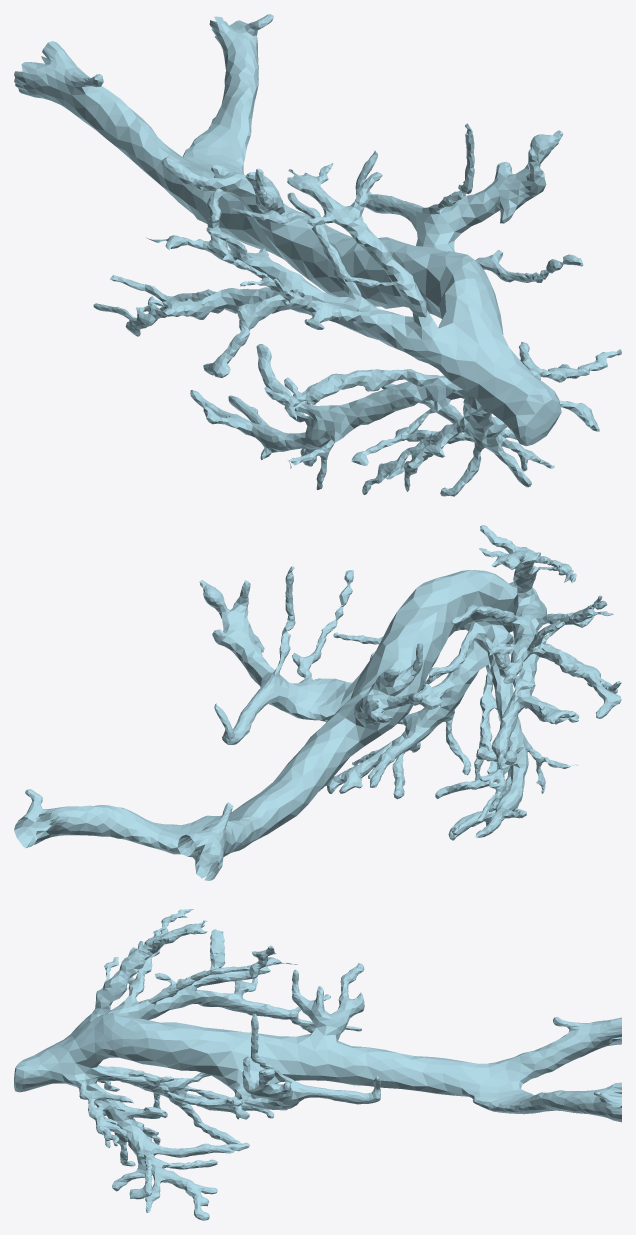
File: venoussystem.obj
The picture shows the model from 3 angles, top to bottom: view 1: azimuth 30°, elevation 25°; view 2: azimuth 150°, elevation 25°; view 3: azimuth 270°, elevation 25°; orthographic projection. The views are drawn at different scales.
Parts seen in each view (by area): view 1: grp1; view 2: grp1; view 3: grp1.
Part boxes in pixels (x1,y1,x2,y2): grp1: [14, 14, 621, 496]; grp1: [14, 525, 621, 880]; grp1: [14, 909, 621, 1220].
Size of the model in its own units: 163 by 122 by 298.
